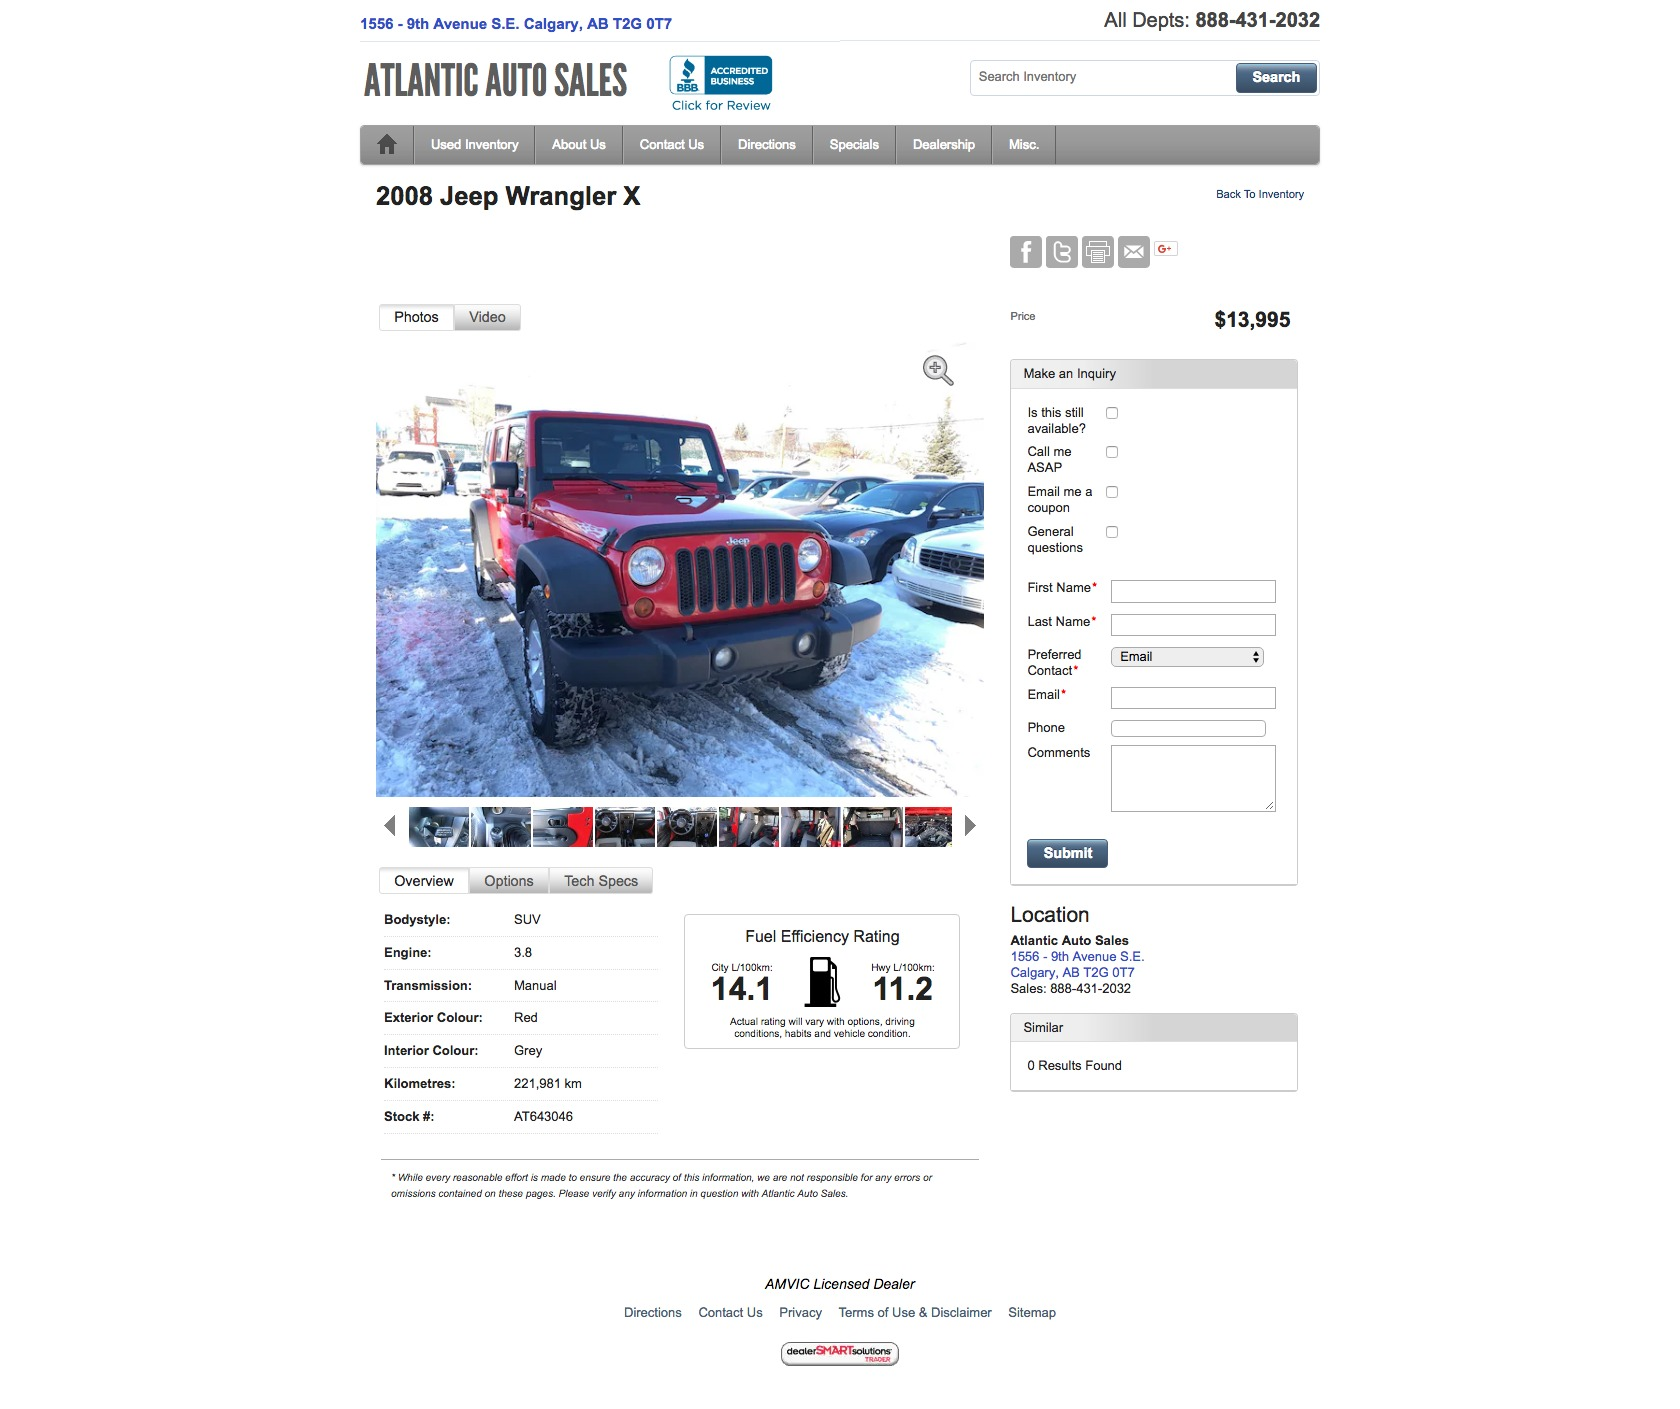car: (963, 816, 976, 837)
